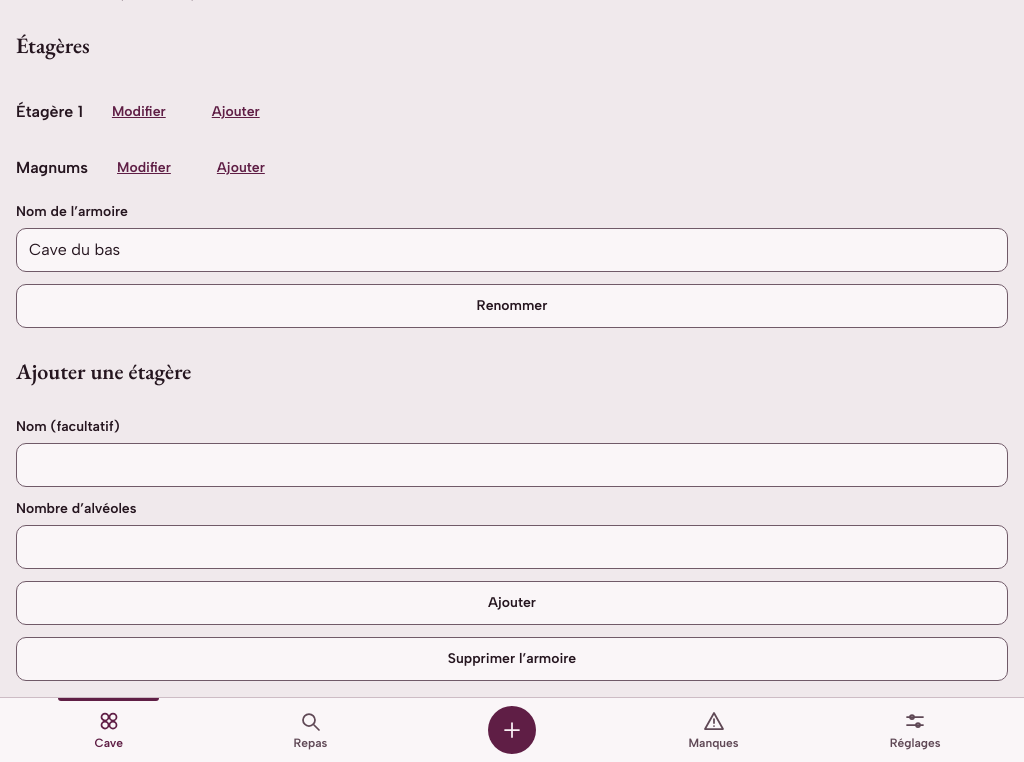
Test: Armoire : vue visuelle et modification › supprimer une armoire non vide : annonce le passage en Hors rangement, puis revient à la cave
(page scrolled)
Click the button "Supprimer l’armoire": (512, 658) [16,636,1008,680]
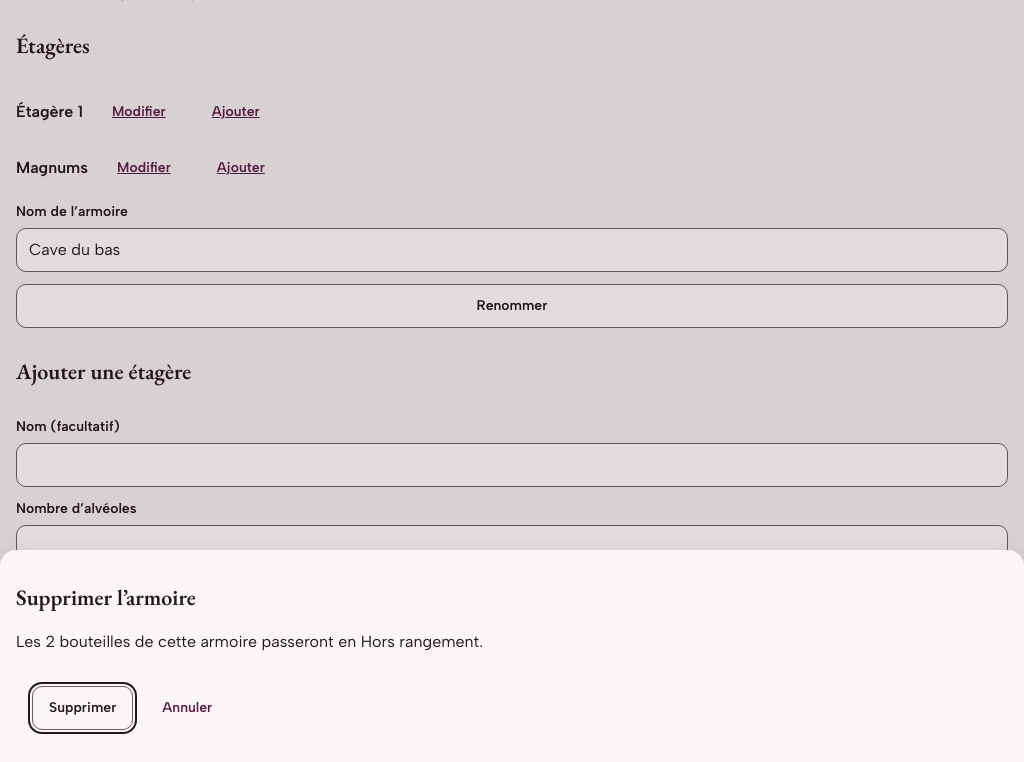
Check: the dialog "Supprimer l’armoire" shows "Les 2 bouteilles de cette armoire passeront en Hors rangement.", box [16,632,483,651]
Click the button "Supprimer": (83, 708) [32,686,133,730]
(page scrolled)
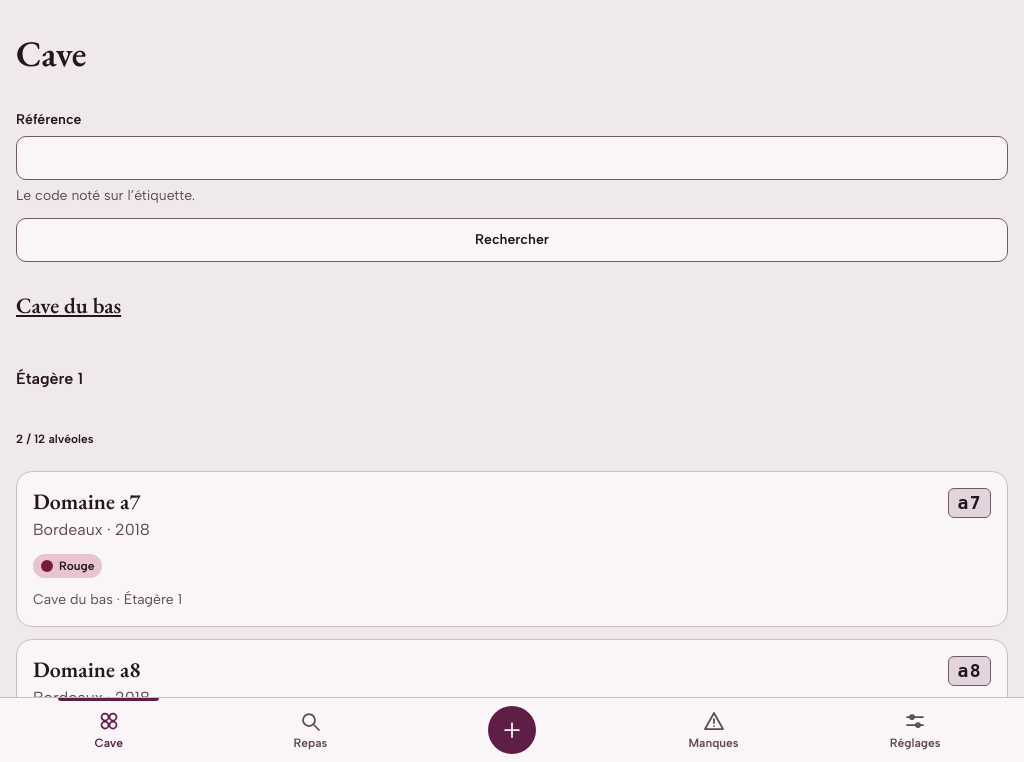
Check: the heading "Cave" is shown, box [16,30,86,77]
